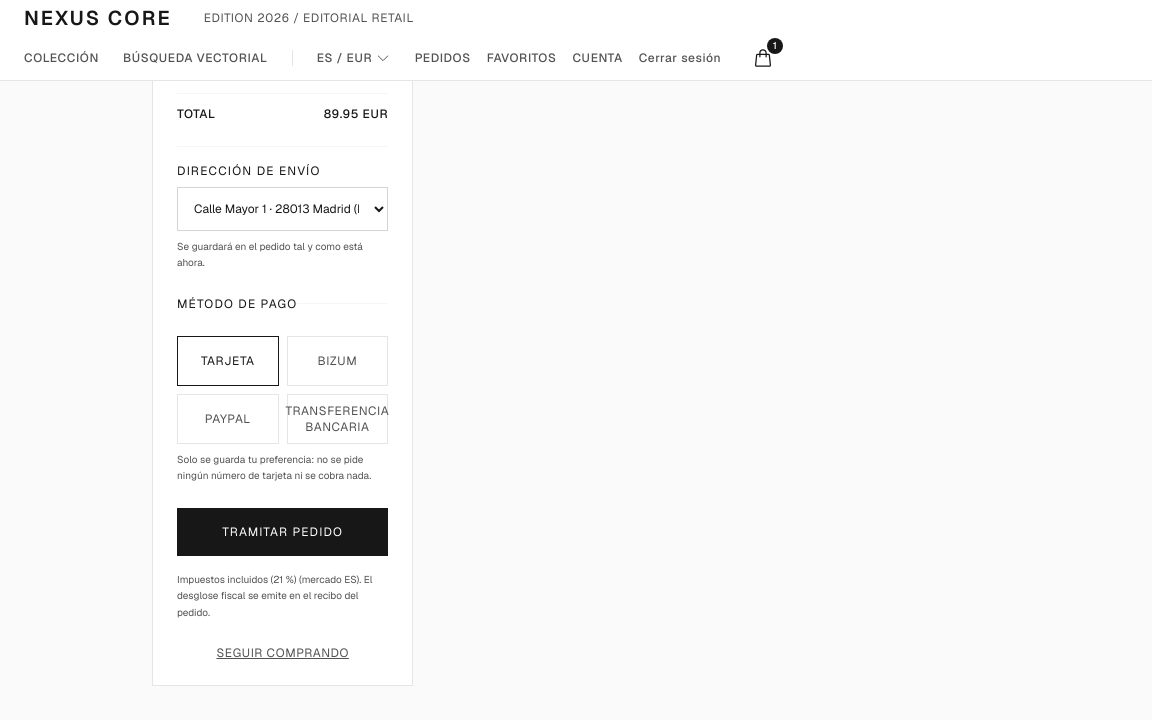
Test: CartPage — dirección de envío y método de pago (spec order-detail-redesign) › R2 — ofrece los cuatro métodos de pago y permite cambiar de uno
The image size is (1152, 720).
(page scrolled)
Expected: the dropdown labelled "Dirección de envío" shows "Calle Mayor 1 · 28013 Madrid (ES)", [177,187,388,231]
Expected: the radio button labelled "Tarjeta" is checked, [177,336,279,386]
Click the radio button labelled "Bizum": (338, 360) [287,336,388,386]
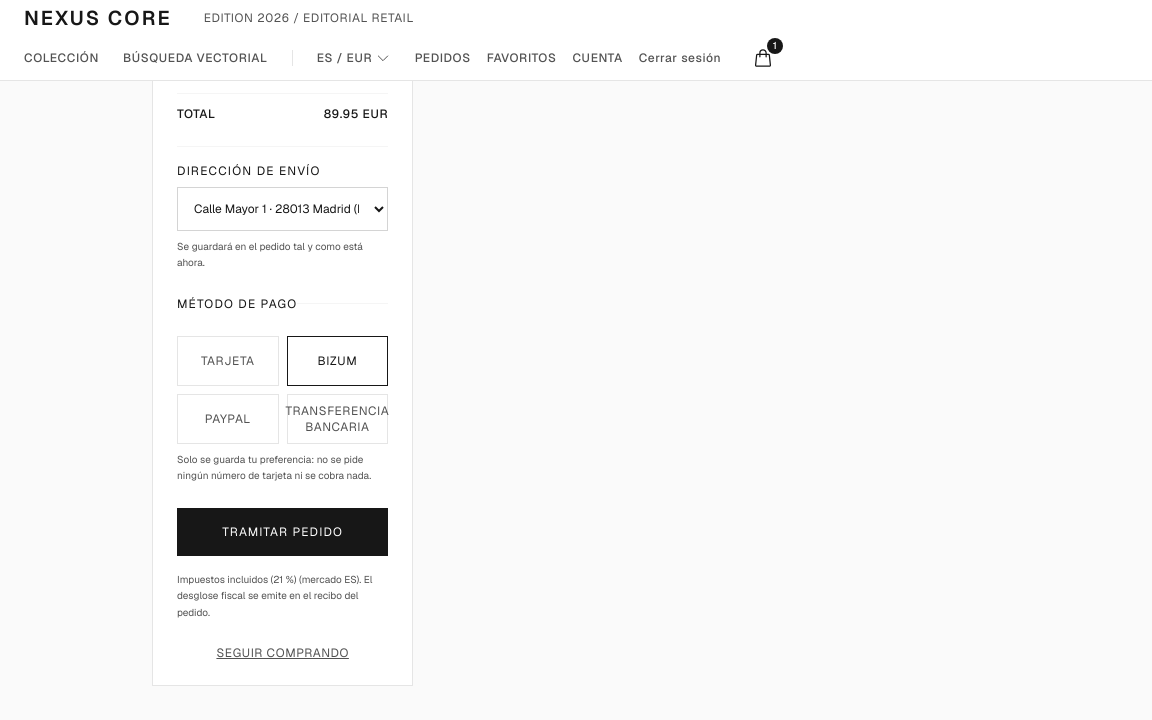
Click the button "Tramitar pedido": (283, 532) [177,508,388,556]
(page scrolled)
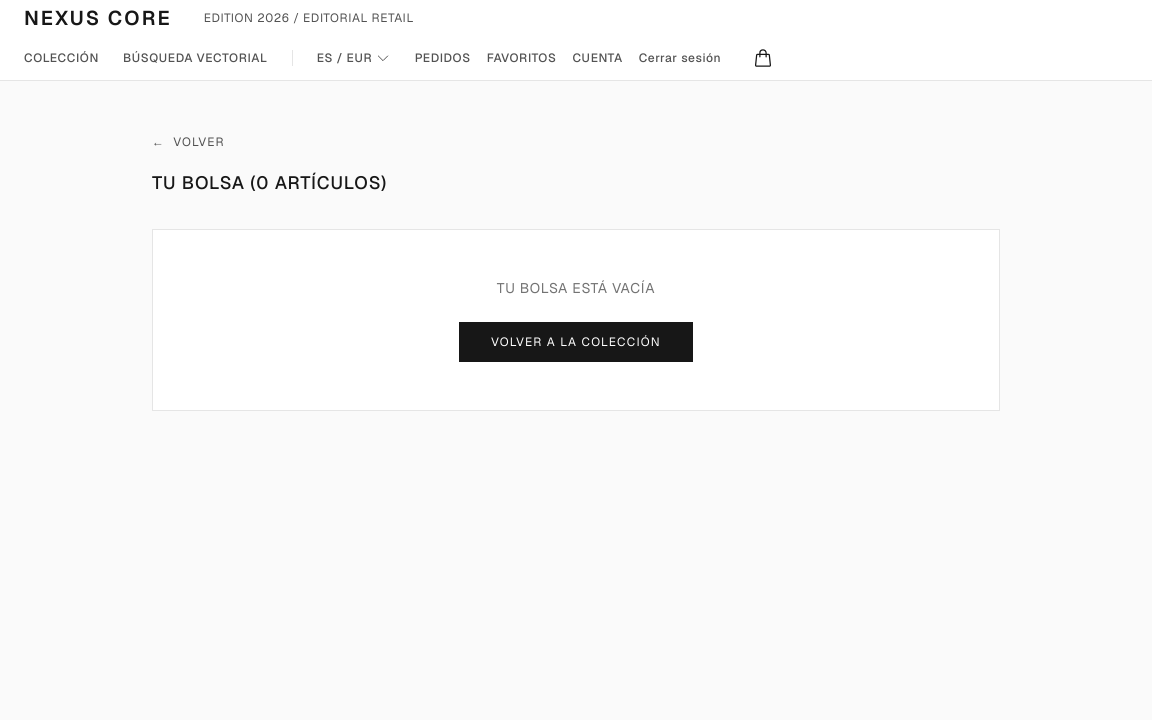
Expected: the text labelled "número de tarjeta" is gone
